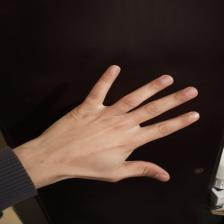five: (65, 64, 202, 184)
